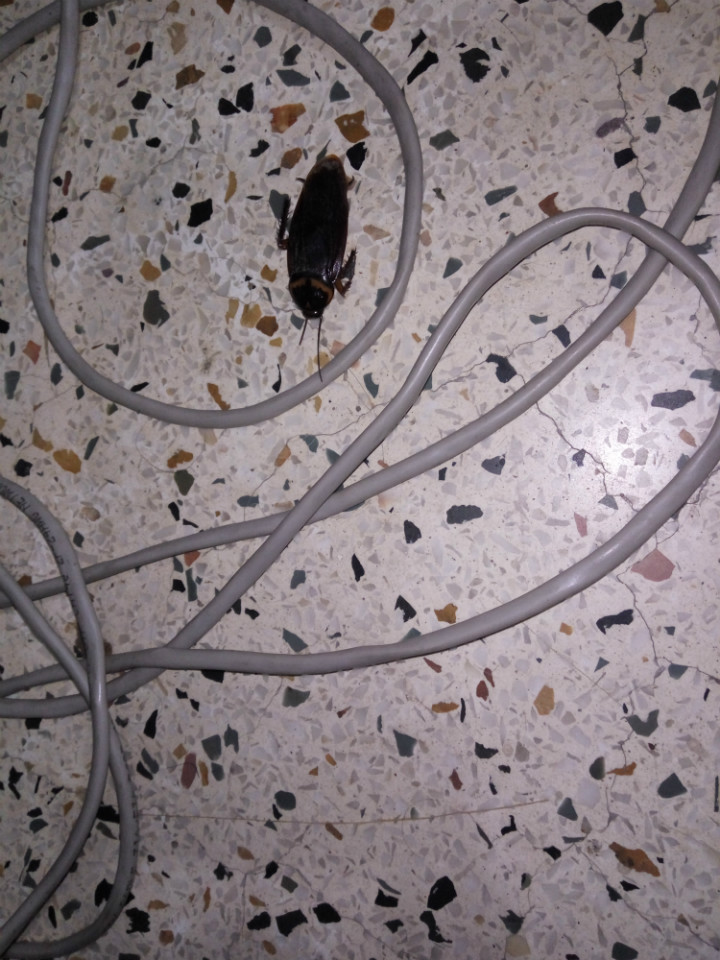cockroach: (266, 97, 381, 397)
